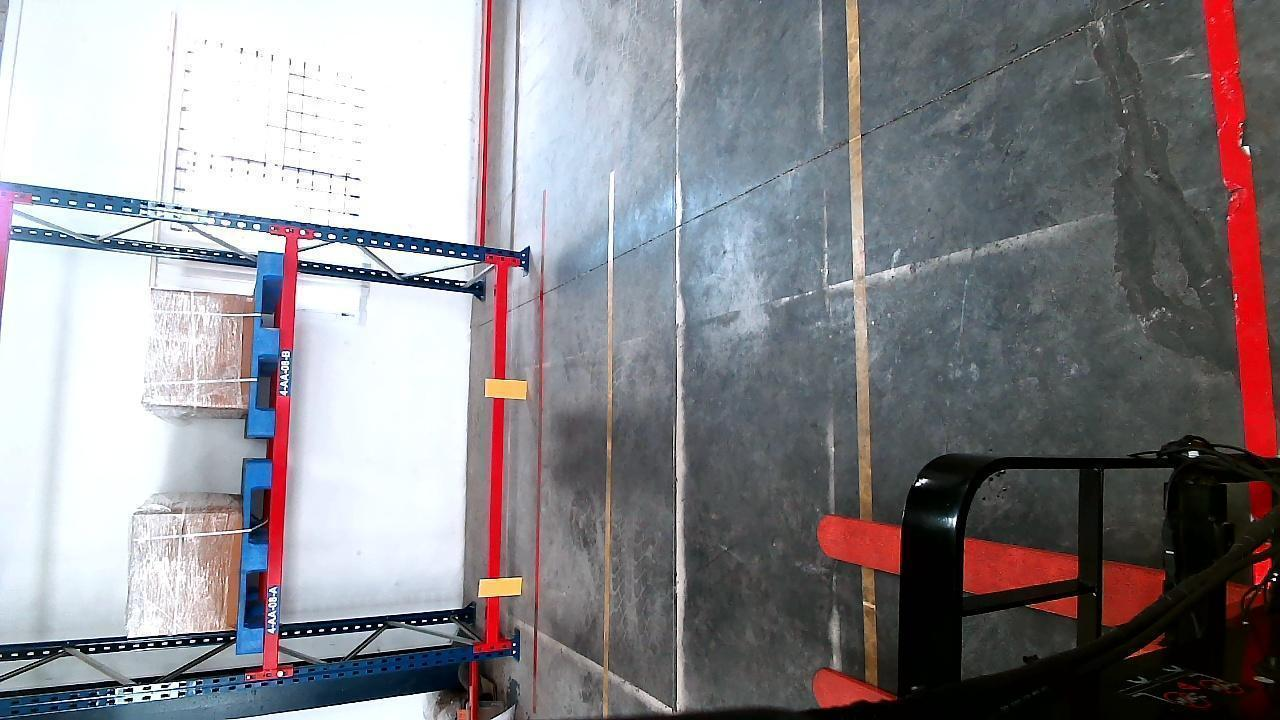yellow_line: (841, 0, 879, 688), (597, 177, 617, 720)
